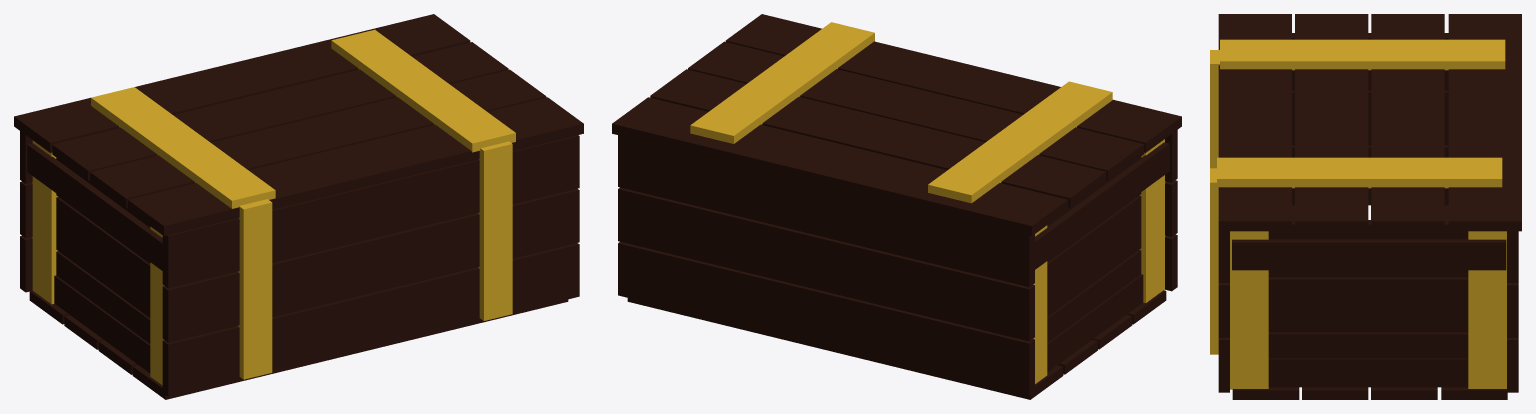
The model's file is crate.FBX.
3 views of the same model, side by side, from view 1: azimuth 30°, elevation 25°; view 2: azimuth 150°, elevation 25°; view 3: azimuth 270°, elevation 25° (orthographic).
Visible parts, largest first — view 1: Crate_Closed_01_mesh; view 2: Crate_Closed_01_mesh; view 3: Crate_Closed_01_mesh.
Boxes of the visible parts, box(x1,y1,x2,y2) form: Crate_Closed_01_mesh: box(14, 14, 583, 399); Crate_Closed_01_mesh: box(612, 14, 1181, 399); Crate_Closed_01_mesh: box(1210, 14, 1521, 399).
Size of the model in its own units: 125 by 53.56 by 79.13.
